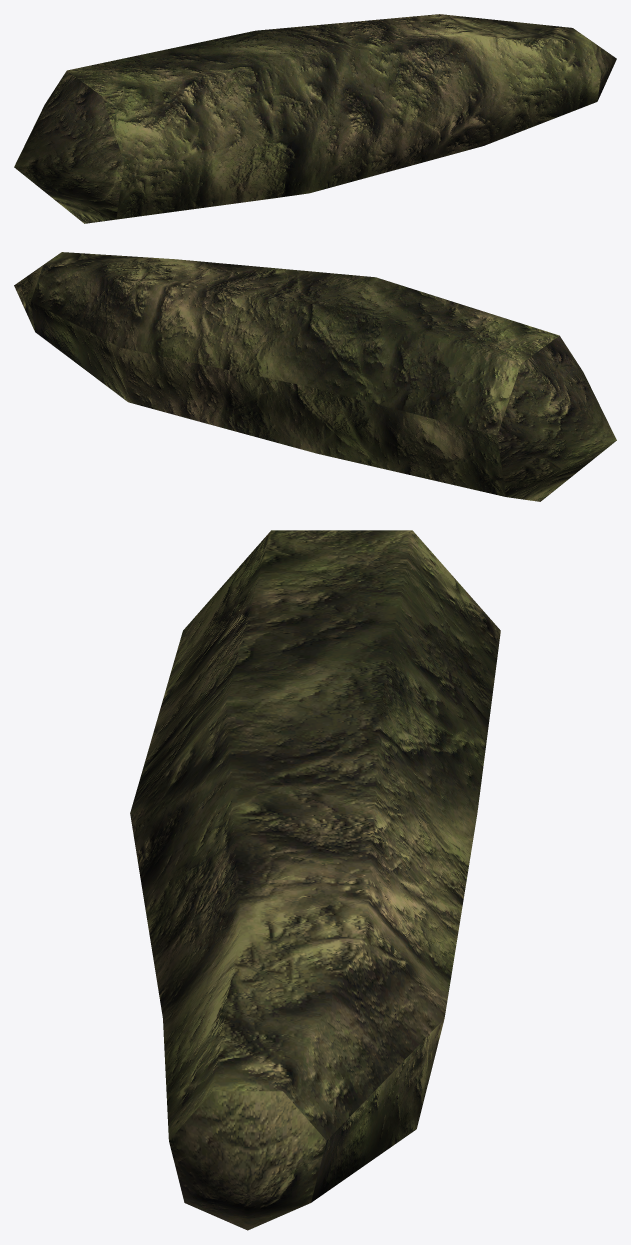
File: turd01.DAE
The picture shows the model from 3 angles, top to bottom: view 1: azimuth 30°, elevation 25°; view 2: azimuth 150°, elevation 25°; view 3: azimuth 270°, elevation 25°; orthographic projection. The views are drawn at different scales.
Visible parts, largest first — view 1: turd01; view 2: turd01; view 3: turd01.
Part boxes in pixels (left/top/right/bottom): turd01: left=14, top=14, right=616, bottom=223; turd01: left=14, top=252, right=616, bottom=501; turd01: left=130, top=530, right=500, bottom=1230.
Size of the model in its own units: 0.5347 by 0.1482 by 0.1353.
